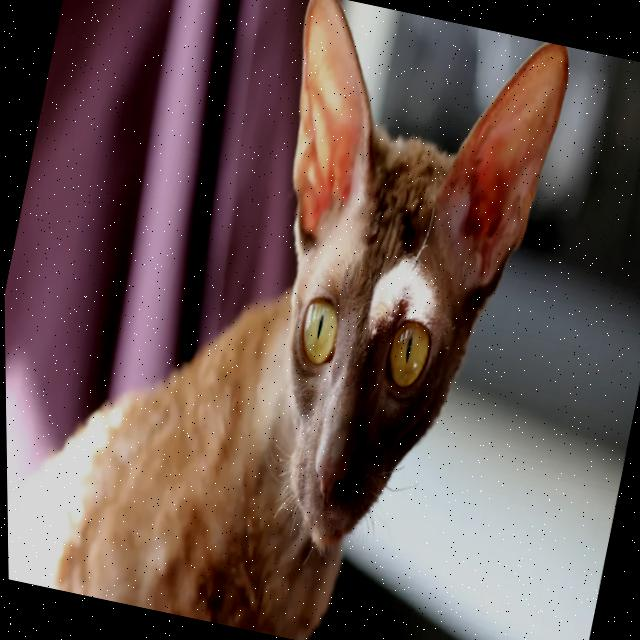Cornish Rex: (0, 0, 583, 640)
